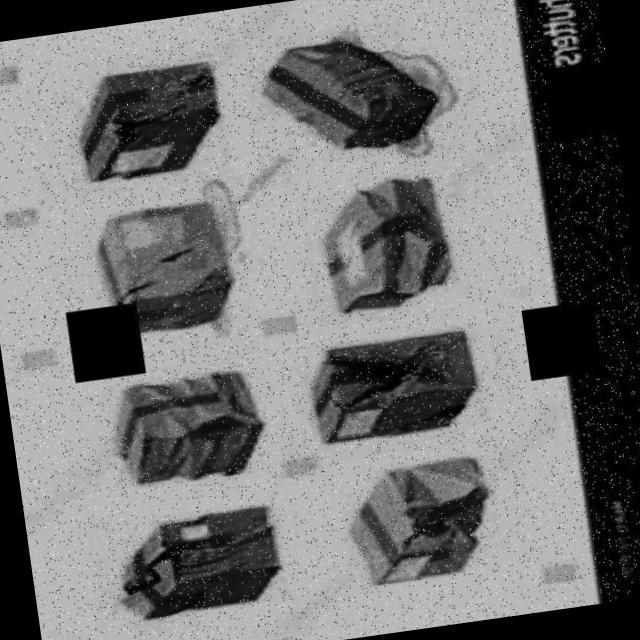box: (287, 310, 522, 486), (308, 438, 543, 614), (264, 162, 500, 336), (28, 189, 262, 364), (238, 14, 473, 187), (61, 340, 296, 513), (6, 44, 240, 216), (85, 488, 320, 640)
